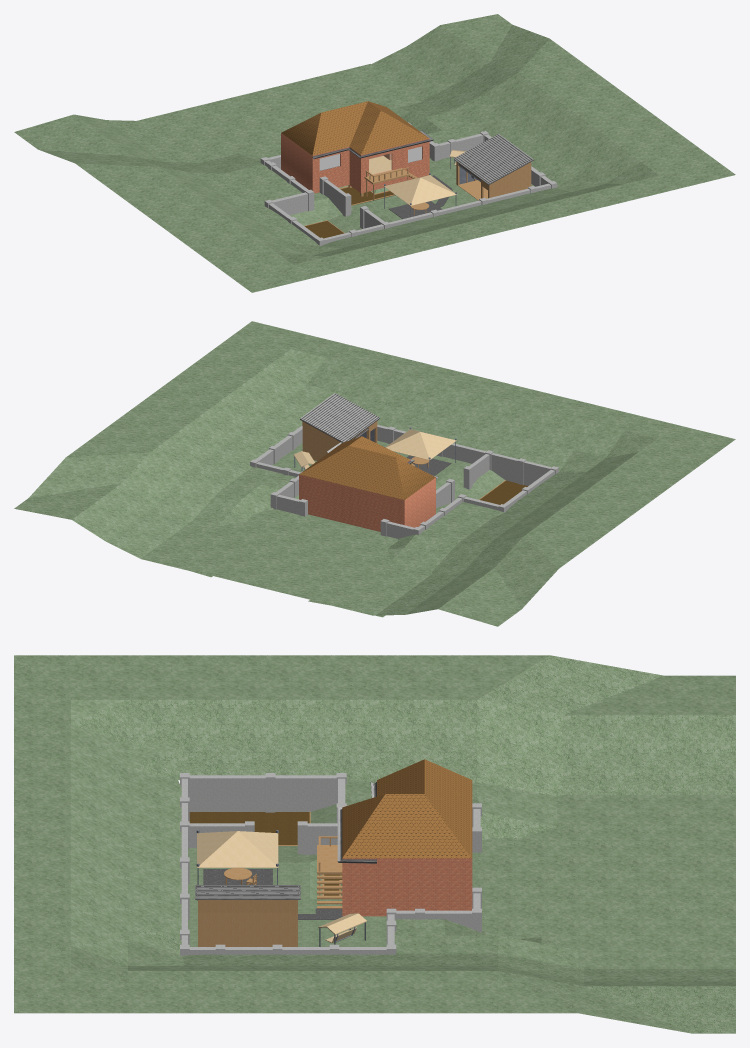
File: area1.glb
3 renders of one model, top to bottom at view 1: azimuth 30°, elevation 25°; view 2: azimuth 150°, elevation 25°; view 3: azimuth 270°, elevation 25°, orthographic. The views are drawn at different scales.
Parts seen in each view (by area): view 1: ground, house, walls, garage, tarp, concrete_flooring; view 2: ground, house, walls, garage, tarp; view 3: ground, house, walls, garage, tarp, concrete_flooring, swing_couch.
Boxes of the visible parts, <box> form: ground: <box>14,14,735,292</box>; house: <box>281,101,433,200</box>; walls: <box>260,122,556,245</box>; garage: <box>453,134,533,200</box>; tarp: <box>384,173,456,216</box>; concrete_flooring: <box>389,175,452,219</box>; ground: <box>14,321,735,626</box>; house: <box>299,436,438,531</box>; walls: <box>250,424,558,538</box>; garage: <box>300,393,379,460</box>; tarp: <box>384,427,456,473</box>; ground: <box>14,655,735,1033</box>; house: <box>317,759,472,916</box>; walls: <box>180,773,481,955</box>; garage: <box>195,885,300,946</box>; tarp: <box>196,830,278,900</box>; concrete_flooring: <box>203,869,342,919</box>; swing_couch: <box>318,913,366,946</box>.
Size of the model in its own units: 4850 by 726 by 4133.
Materials: 17 (16 with a texture image).
